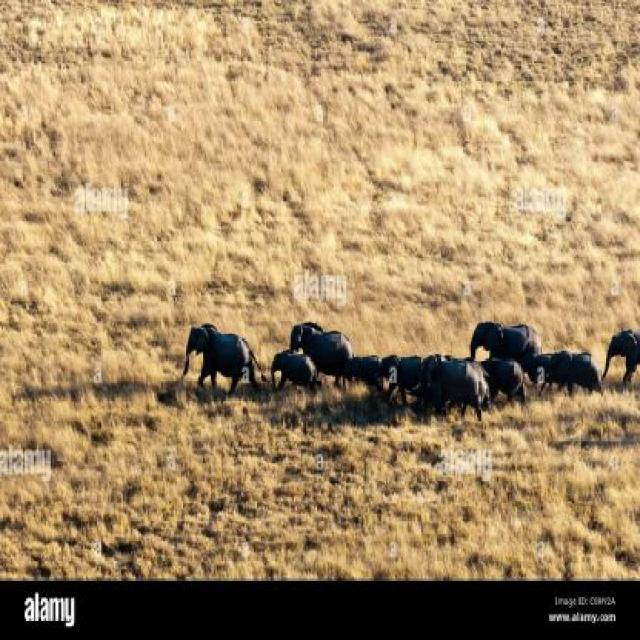elephant: (175, 306, 251, 420), (524, 330, 608, 410), (458, 314, 564, 364), (294, 309, 355, 391), (410, 356, 488, 415), (600, 304, 640, 388), (276, 343, 318, 414), (481, 372, 532, 416), (382, 341, 421, 388), (351, 348, 387, 382)
